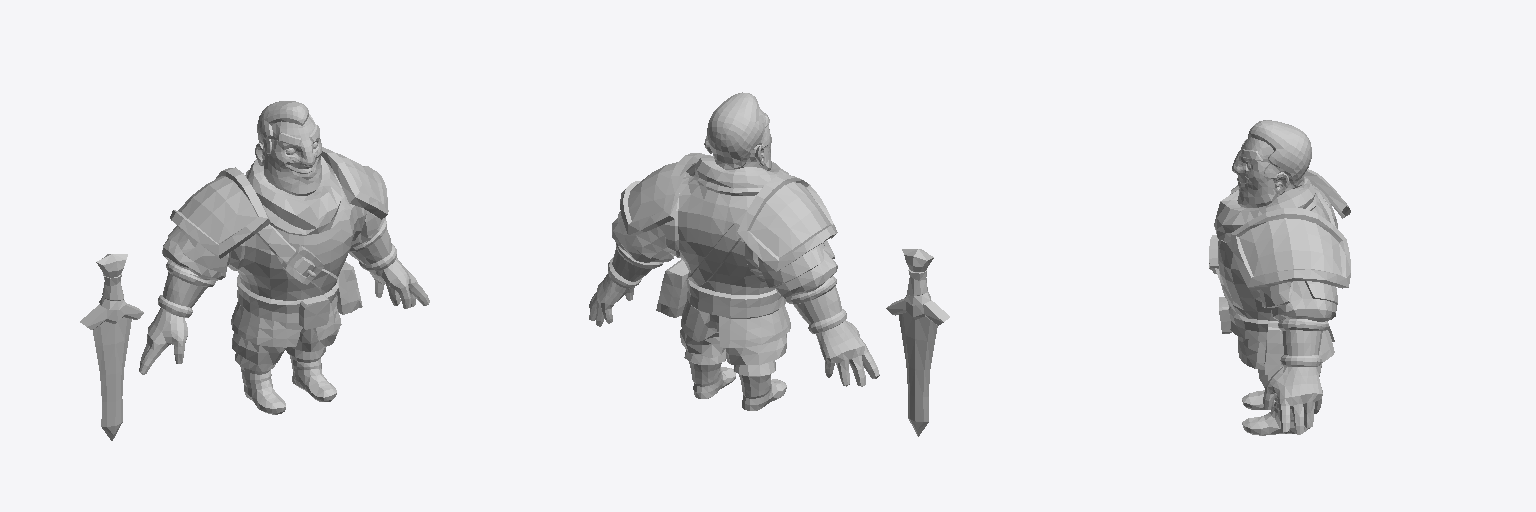
Rendered from KnightTriangulated.obj.
3 renders of one model, left to right at view 1: azimuth 30°, elevation 25°; view 2: azimuth 150°, elevation 25°; view 3: azimuth 270°, elevation 25°, orthographic.
Visible parts, largest first — view 1: Knight:body; view 2: Knight:body; view 3: Knight:body.
Boxes of the visible parts, x1=… form: Knight:body: x1=80, y1=101, x2=429, y2=440; Knight:body: x1=589, y1=92, x2=949, y2=436; Knight:body: x1=1209, y1=120, x2=1350, y2=435.
Size of the model in its own units: 206 by 166 by 72.39.